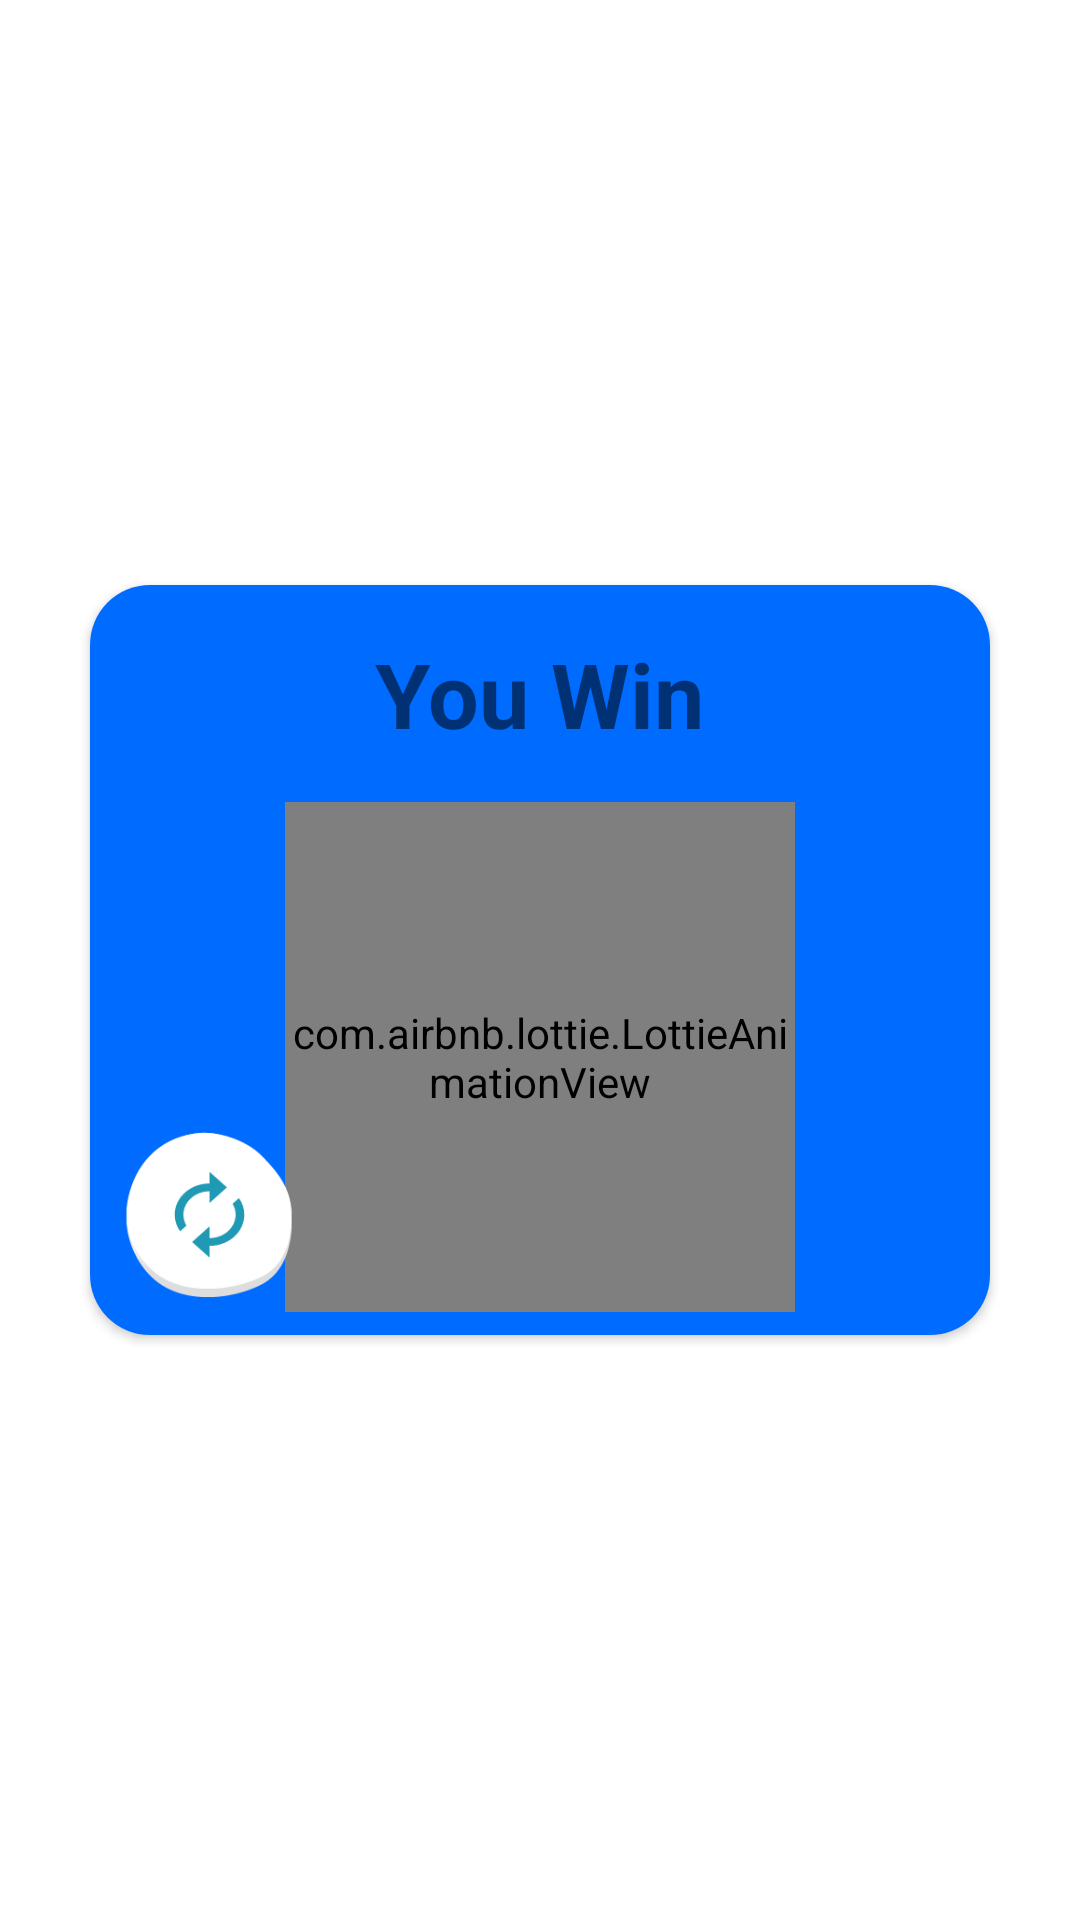

Where to tap for icons on this 1080*1920 app screen, as point (x, y):
restartt: point (213, 1215)
